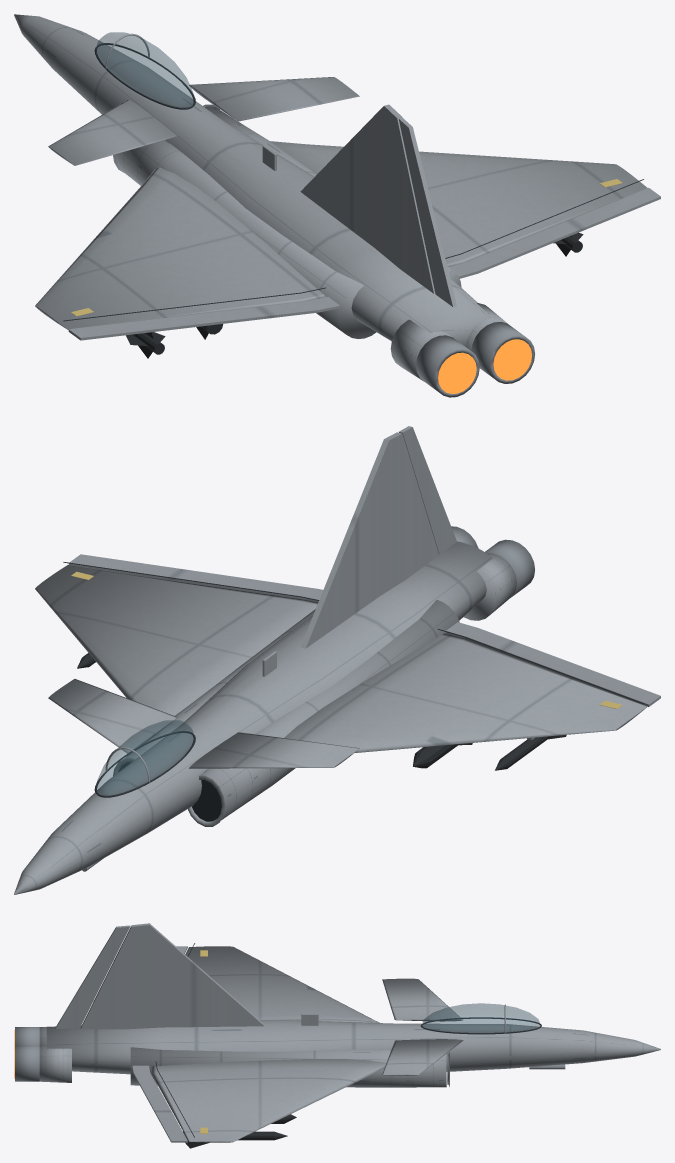
File: wings_rafale.glb
3 views of the same model, one above another, from view 1: azimuth 30°, elevation 25°; view 2: azimuth 150°, elevation 25°; view 3: azimuth 270°, elevation 25° (orthographic). The views are drawn at different scales.
Parts seen in each view (by area): view 1: airframe_static, canard_R, canopy, canard_L, elevon_L, elevon_R, rudder_1, afterburner_R, afterburner_L, missile_L2; view 2: airframe_static, canopy, canard_R, canard_L, elevon_L, elevon_R, rudder_1, missile_L2; view 3: airframe_static, canopy, canard_L, rudder_1, canard_R, elevon_R, missile_R2.
Part boxes in pixels (<box>): airframe_static: <box>14,14,647,397</box>; canard_R: <box>189,77,359,121</box>; canopy: <box>94,32,195,109</box>; canard_L: <box>48,99,177,165</box>; elevon_L: <box>68,297,339,340</box>; elevon_R: <box>449,188,660,278</box>; rudder_1: <box>399,118,456,307</box>; afterburner_R: <box>493,339,531,380</box>; afterburner_L: <box>438,352,476,393</box>; missile_L2: <box>126,332,165,358</box>; airframe_static: <box>14,432,647,894</box>; canopy: <box>94,720,195,797</box>; canard_R: <box>48,679,177,753</box>; canard_L: <box>189,732,359,768</box>; elevon_L: <box>446,622,660,706</box>; elevon_R: <box>68,554,323,601</box>; rudder_1: <box>399,426,456,554</box>; missile_L2: <box>495,735,566,770</box>; airframe_static: <box>15,923,660,1142</box>; canopy: <box>421,1003,541,1034</box>; canard_L: <box>382,978,462,1021</box>; rudder_1: <box>55,925,130,1028</box>; canard_R: <box>382,1039,463,1075</box>; elevon_R: <box>132,1065,187,1142</box>; missile_R2: <box>183,1131,287,1148</box>.
Size of the model in its own units: 10.9 by 4.26 by 15.31.
Materials: 7 (1 with a texture image).
